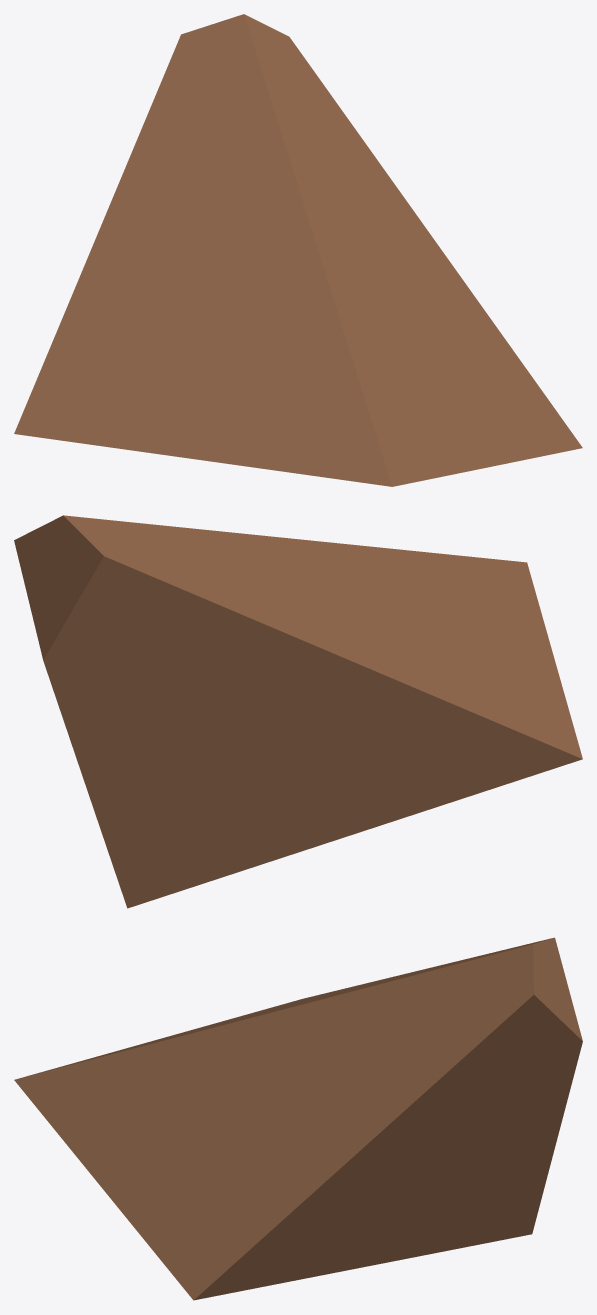
File: WoodCellCube_003_cell_035.fbx
3 views of the same model, one above another, from view 1: azimuth 30°, elevation 25°; view 2: azimuth 150°, elevation 25°; view 3: azimuth 270°, elevation 25° (orthographic). The views are drawn at different scales.
Parts seen in each view (by area): view 1: WoodCellCube_003_cell_035; view 2: WoodCellCube_003_cell_035; view 3: WoodCellCube_003_cell_035.
Boxes of the visible parts, x1=… form: WoodCellCube_003_cell_035: x1=14, y1=14, x2=582, y2=486; WoodCellCube_003_cell_035: x1=14, y1=515, x2=582, y2=908; WoodCellCube_003_cell_035: x1=14, y1=937, x2=582, y2=1300.
Size of the model in its own units: 0.3954 by 0.2423 by 0.361.
Materials: 1 (1 with a texture image).
